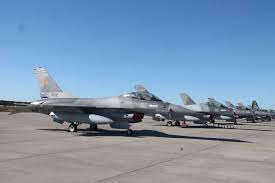fighter: (20, 67, 201, 133), (133, 83, 249, 127)
